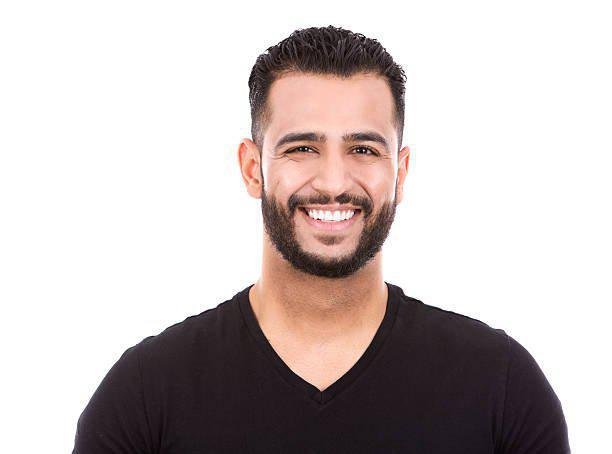Sober: (266, 74, 389, 267)
